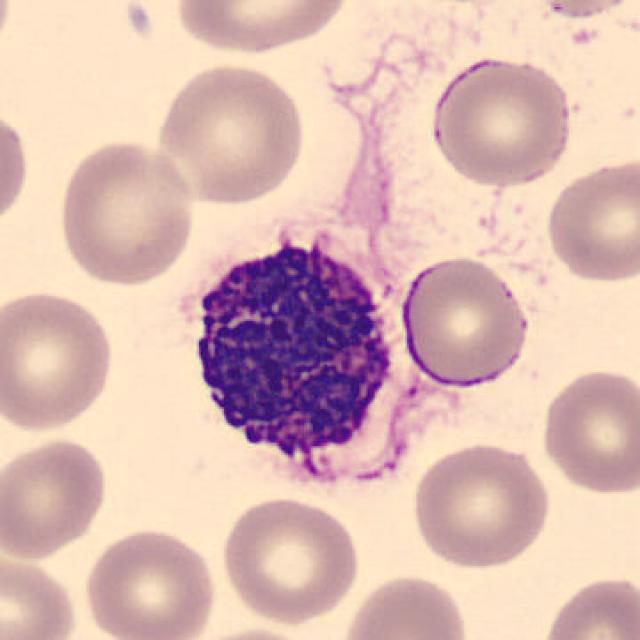Basophil: (171, 220, 421, 504)
RBC: (151, 58, 309, 208), (53, 136, 199, 289), (407, 437, 555, 573), (427, 54, 576, 188), (217, 492, 364, 626), (396, 252, 534, 392), (0, 285, 117, 435), (78, 523, 220, 640), (0, 434, 112, 562), (537, 363, 638, 497), (542, 154, 638, 286), (170, 0, 355, 56), (338, 569, 473, 640), (0, 550, 82, 640), (537, 571, 638, 640), (0, 103, 32, 235), (526, 0, 640, 21), (174, 624, 322, 640), (0, 0, 18, 69)
